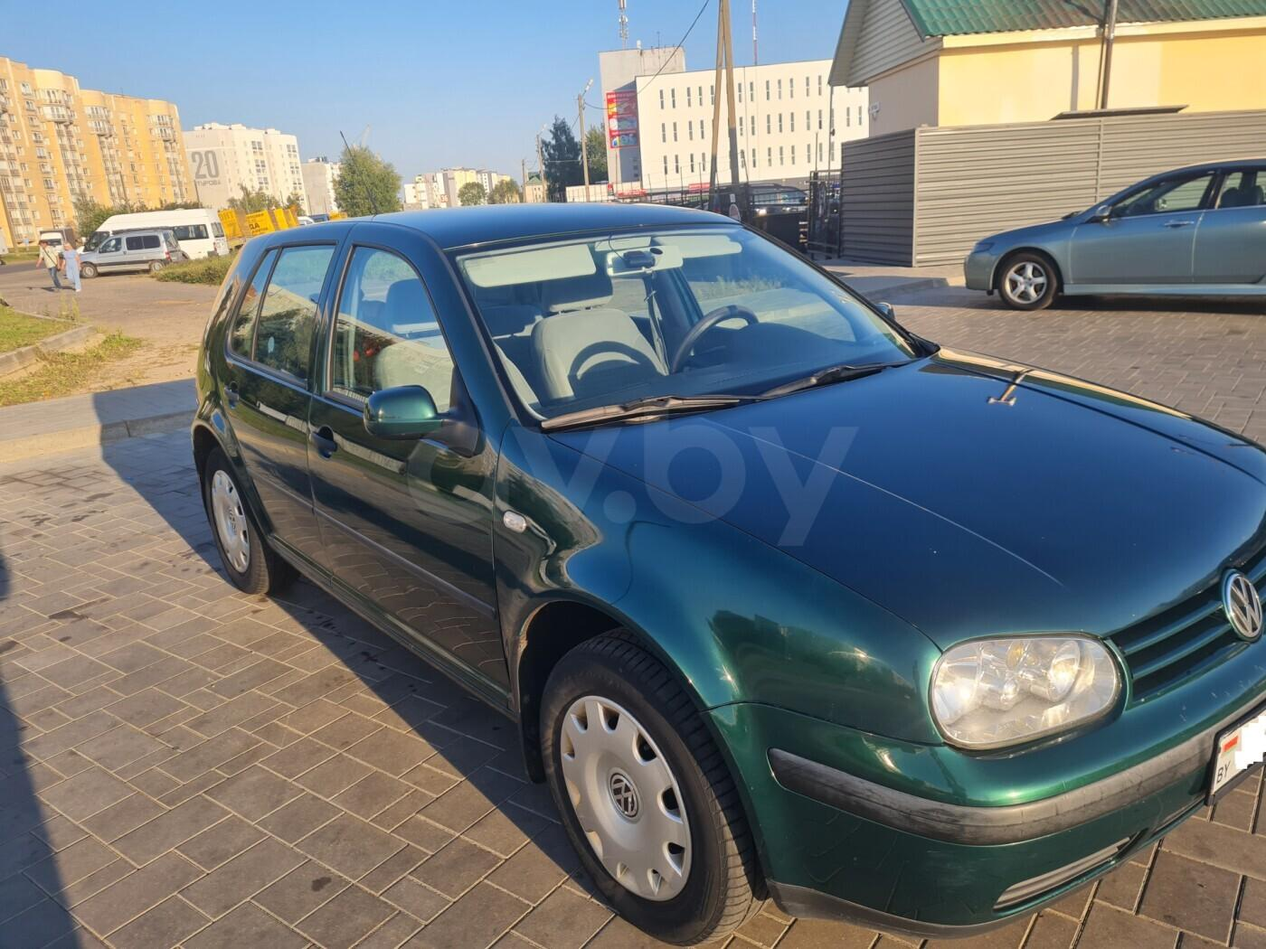Golf_1997-2006: (184, 194, 1266, 916)
